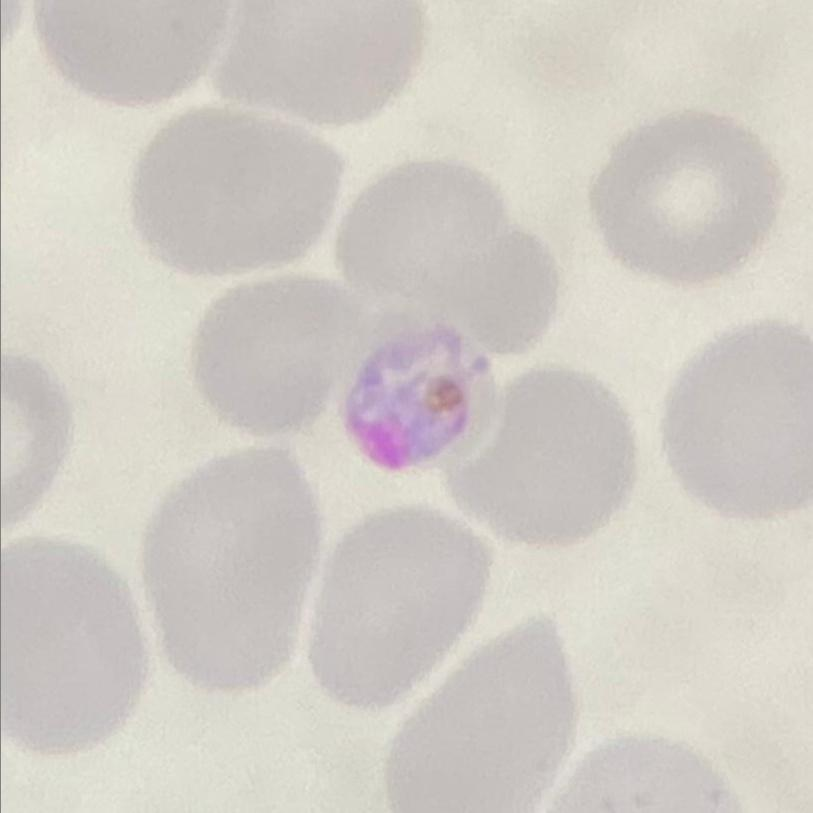Infected: (335, 311, 490, 478)
Uninfected: (337, 164, 559, 356), (145, 451, 320, 691), (387, 617, 583, 813), (312, 502, 492, 714), (442, 369, 641, 554), (133, 111, 341, 280), (593, 114, 789, 284), (0, 534, 149, 751), (660, 327, 813, 516), (195, 277, 362, 443)
